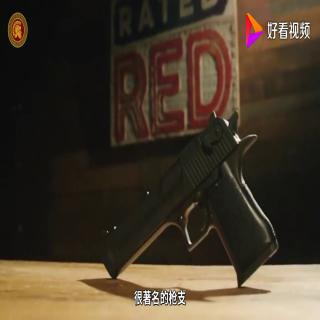gun: (100, 105, 278, 279)
